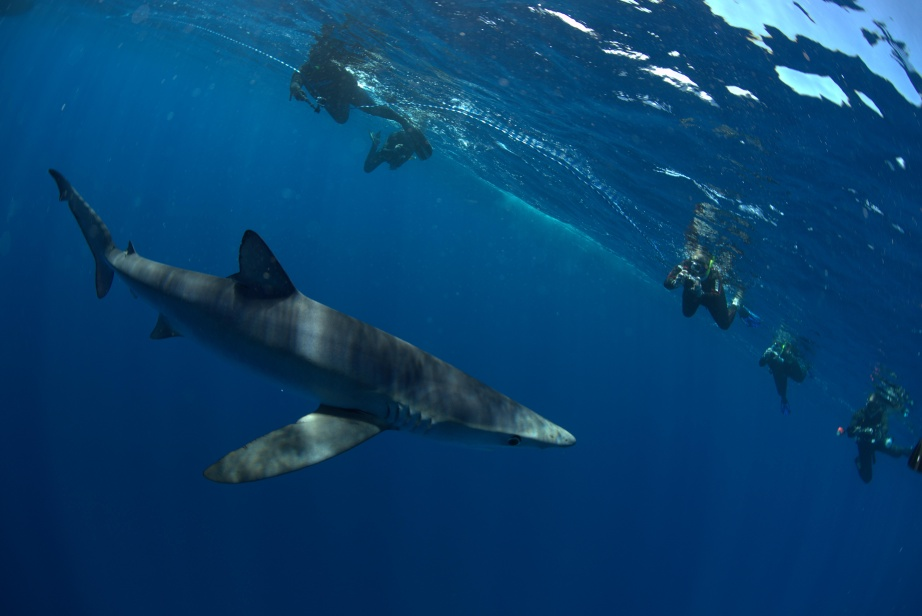Azul: (43, 153, 576, 520)
